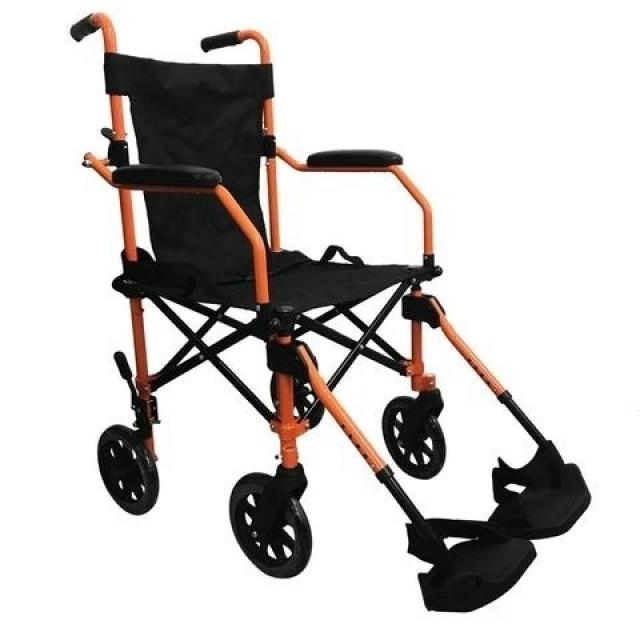wheelchair: (63, 0, 601, 639)
